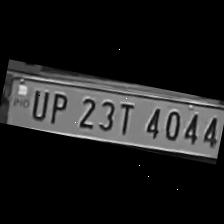0: (160, 106, 184, 142)
2: (70, 92, 100, 130)
3: (92, 95, 118, 133)
4: (137, 101, 165, 140), (198, 112, 224, 148), (178, 109, 202, 145)
P: (42, 88, 72, 128)
T: (113, 99, 140, 138)
U: (25, 86, 51, 122)
